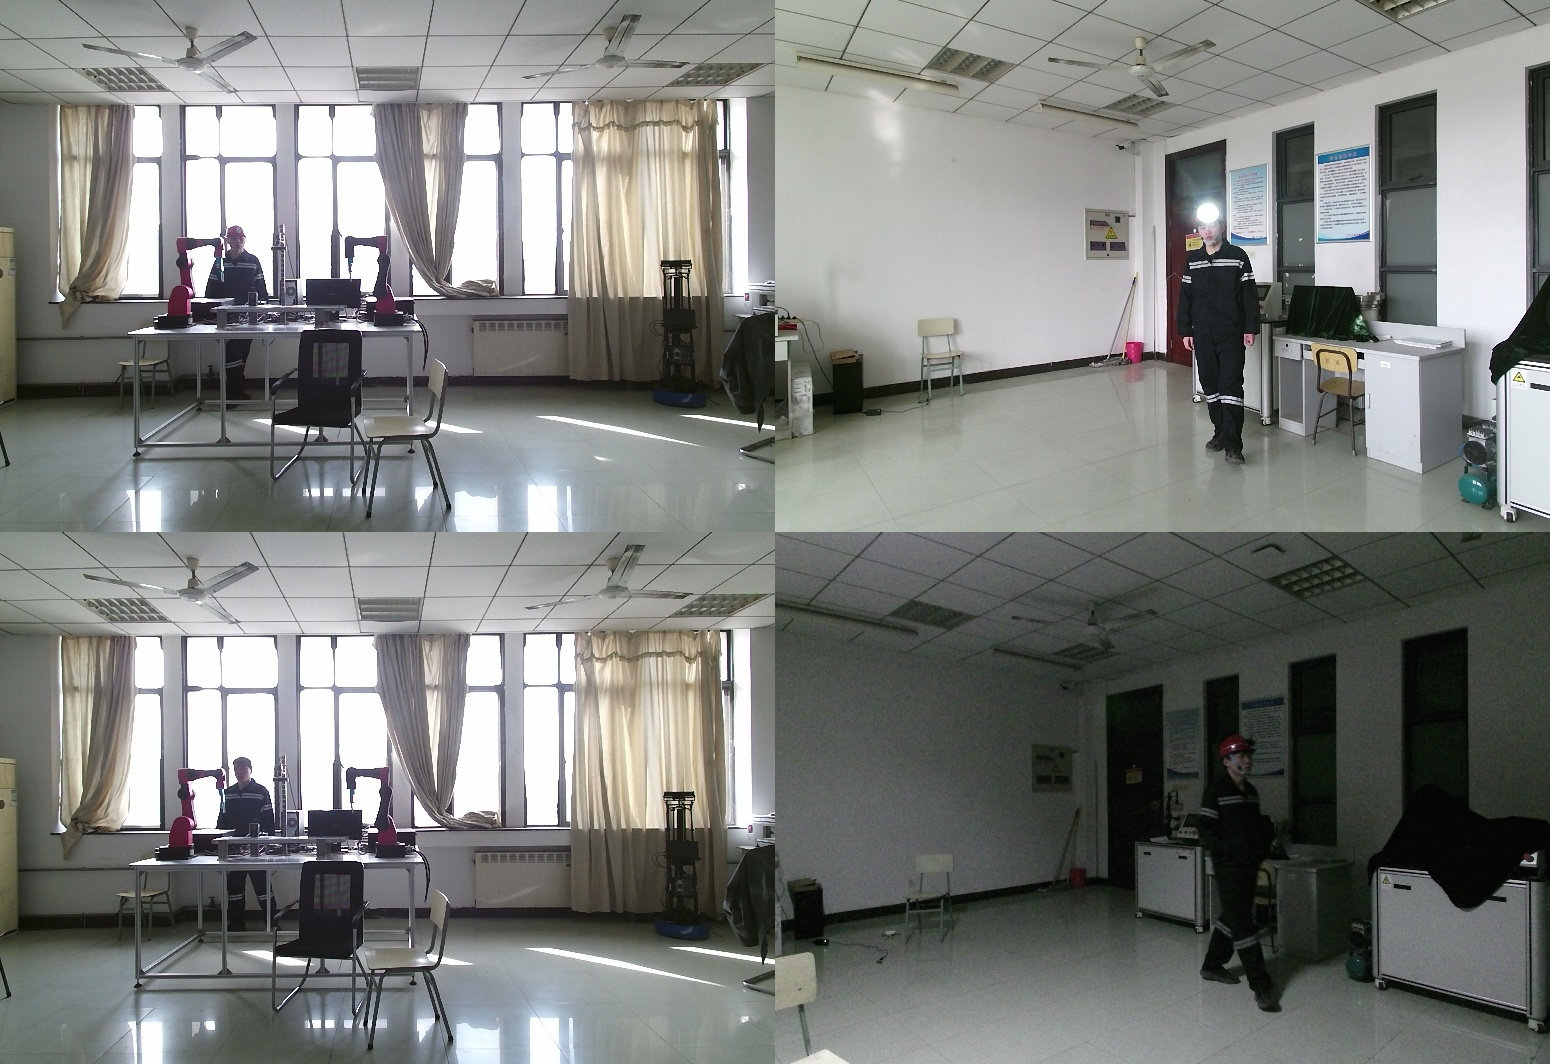person: (1177, 204, 1272, 469), (1188, 736, 1278, 1004), (204, 226, 268, 409), (216, 760, 280, 932)
